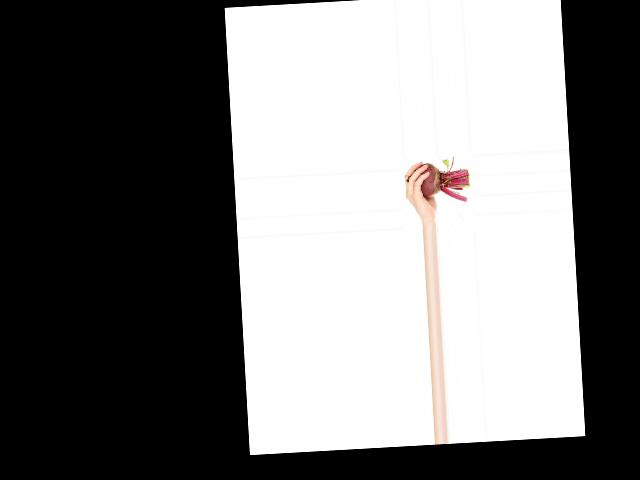beet: (404, 156, 470, 205)
